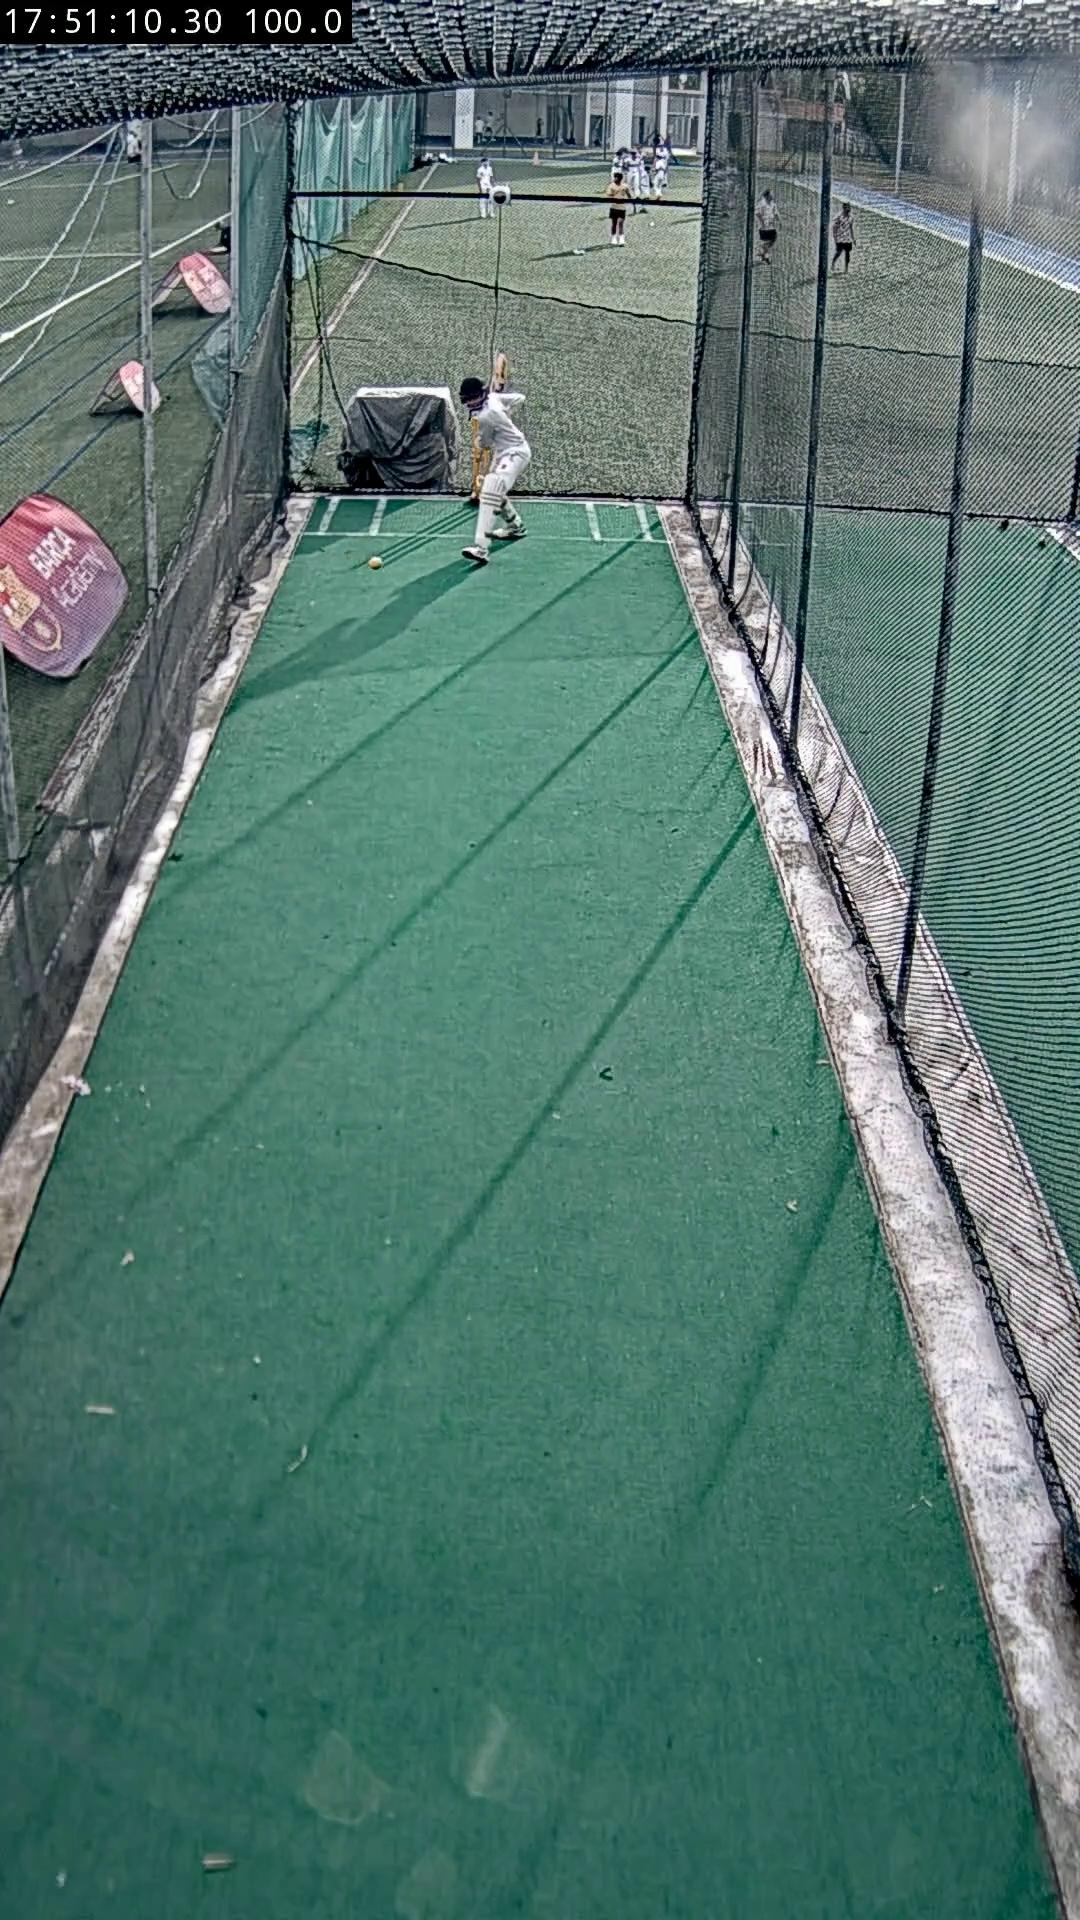ball: (368, 555, 382, 570)
bat: (492, 352, 510, 394)
helmet: (462, 375, 488, 405)
pads: (472, 472, 506, 547)
stumps: (468, 417, 480, 502)
